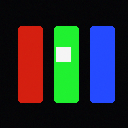1 square: (56, 47, 70, 61)
